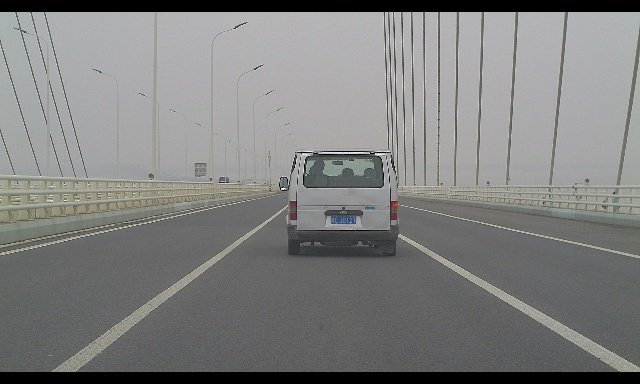car: (279, 149, 399, 257)
truck: (219, 177, 229, 187)
